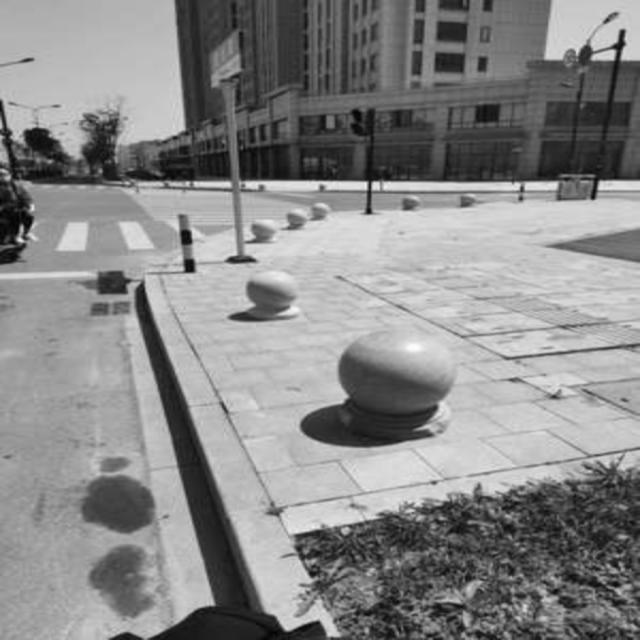spherical_roadblock: (337, 326, 457, 436), (243, 270, 297, 318), (246, 216, 280, 242), (284, 205, 307, 229), (309, 198, 331, 221)
warning_column: (173, 211, 196, 272)
